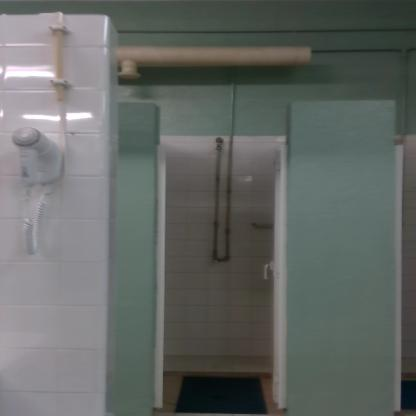open: (117, 106, 313, 414)
